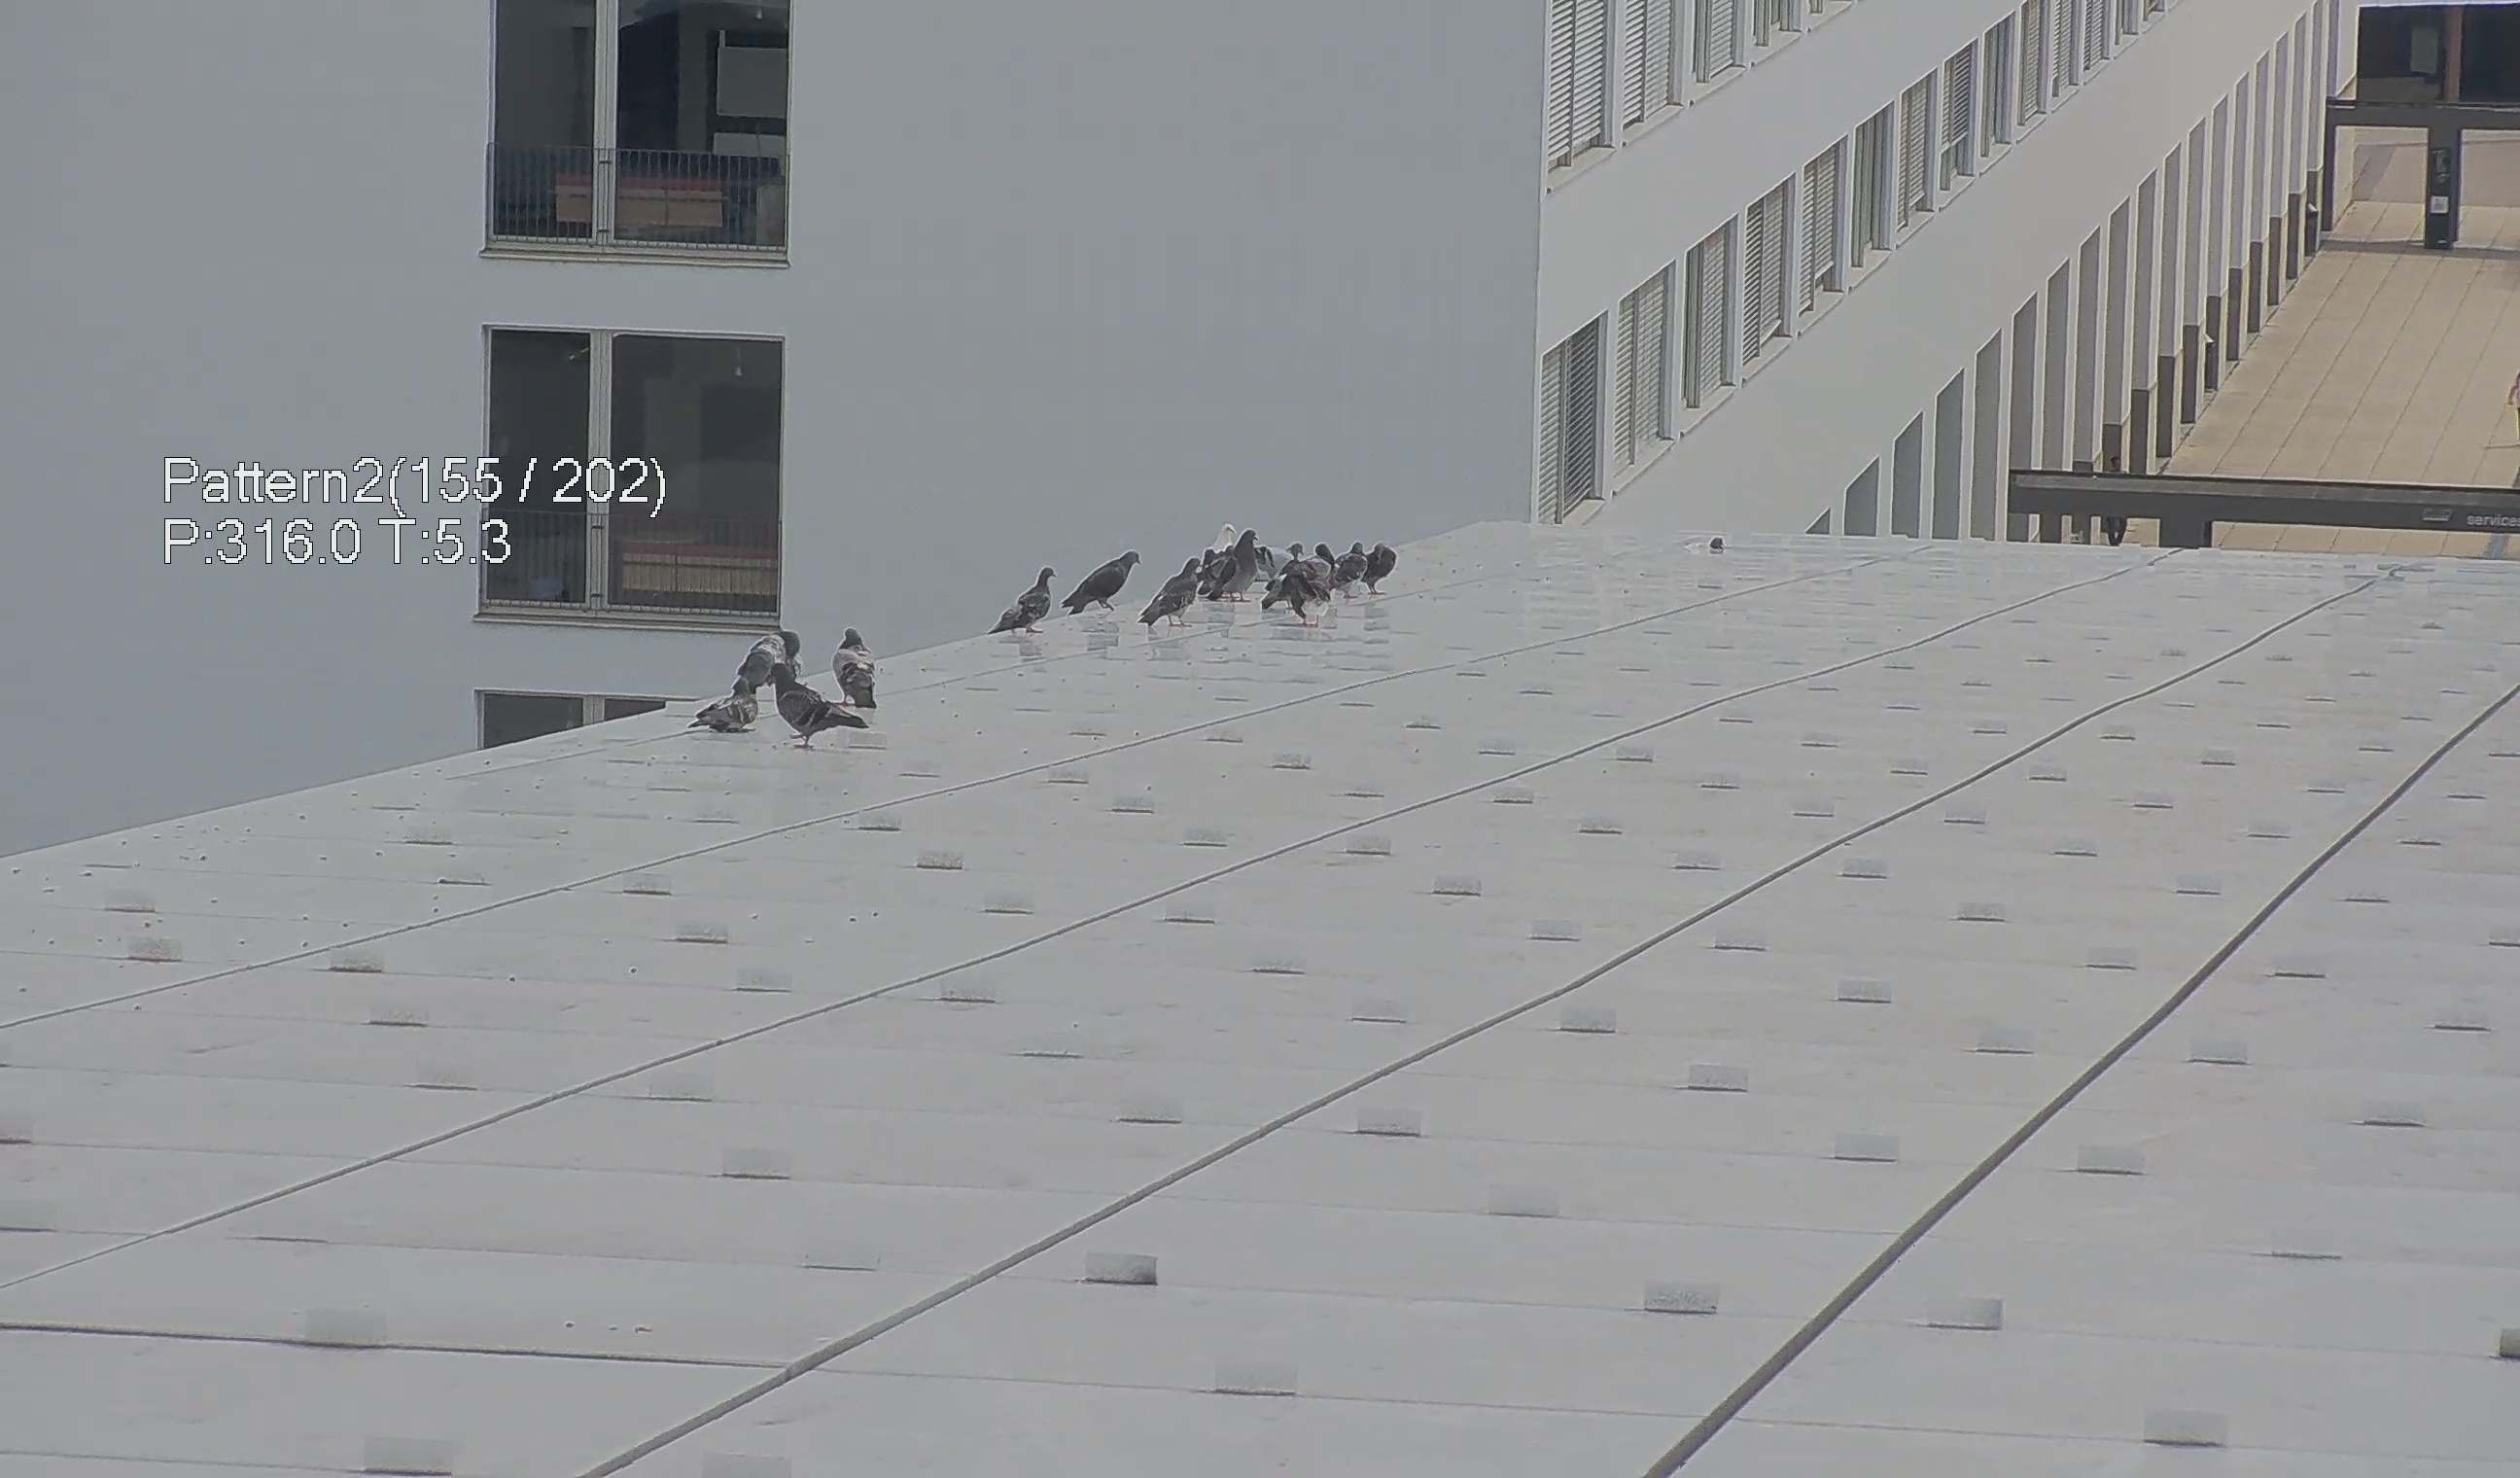Pigeon: (758, 653, 862, 762), (1059, 542, 1148, 628), (981, 563, 1064, 644), (679, 667, 765, 743), (735, 621, 807, 699), (1131, 556, 1201, 633), (1212, 519, 1266, 604), (842, 619, 888, 709), (1275, 575, 1335, 640), (1252, 537, 1312, 579), (1361, 542, 1402, 593), (1338, 537, 1366, 598), (1203, 519, 1242, 561), (1300, 542, 1338, 579)
